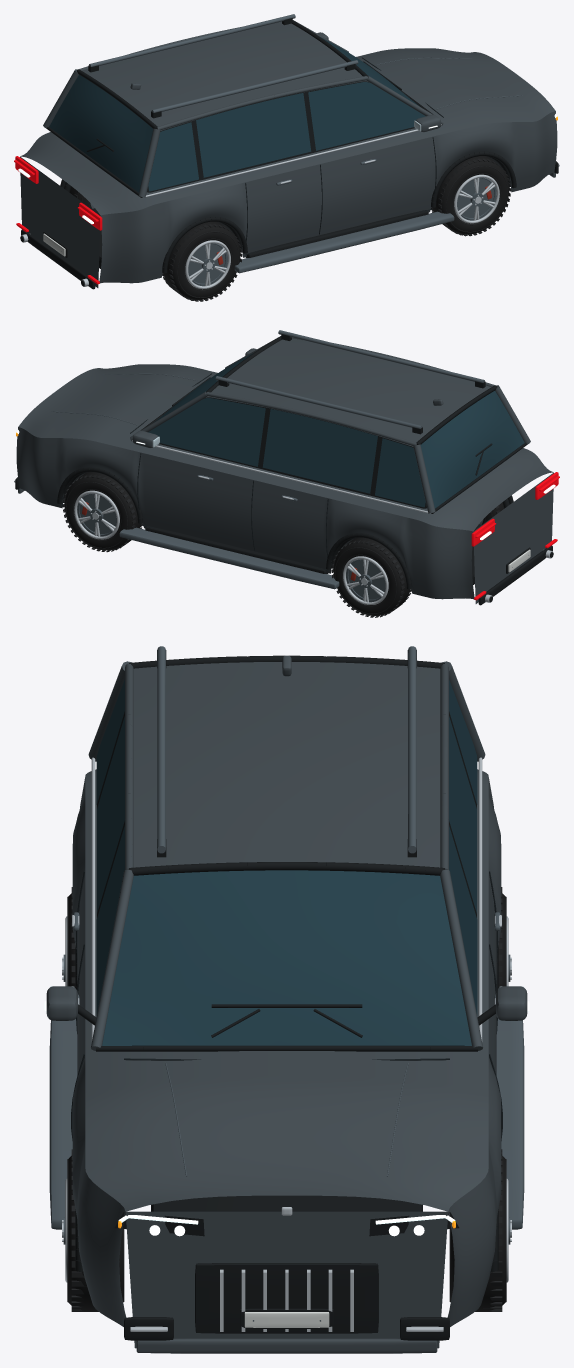
File: suv.glb
3 renders of one model, top to bottom at view 1: azimuth 30°, elevation 25°; view 2: azimuth 150°, elevation 25°; view 3: azimuth 270°, elevation 25°, orthographic. The views are drawn at different scales.
Parts seen in each view (by area): view 1: Paint / body colour, Smoked automotive glass, Graphite alloy, Satin black trim, Tyre rubber, Satin aluminium, Tyre tread edges, Rear light lenses, Panel gaps; view 2: Paint / body colour, Smoked automotive glass, Graphite alloy, Satin black trim, Tyre rubber, Satin aluminium, Tyre tread edges, Rear light lenses, Panel gaps; view 3: Paint / body colour, Smoked automotive glass, Satin black trim, Graphite alloy, Satin aluminium, Tyre rubber, Tyre tread edges, Plain number plates, Panel gaps, LED daylight.
Part boxes in pixels (x1=…): Paint / body colour: x1=20, y1=20, x2=557, y2=287; Smoked automotive glass: x1=49, y1=37, x2=425, y2=192; Graphite alloy: x1=45, y1=14, x2=522, y2=286; Satin black trim: x1=20, y1=18, x2=558, y2=289; Tyre rubber: x1=69, y1=156, x2=509, y2=299; Satin aluminium: x1=21, y1=124, x2=559, y2=289; Tyre tread edges: x1=73, y1=156, x2=511, y2=301; Rear light lenses: x1=14, y1=156, x2=102, y2=284; Panel gaps: x1=245, y1=57, x2=443, y2=255; Paint / body colour: x1=16, y1=336, x2=553, y2=603; Smoked automotive glass: x1=148, y1=353, x2=524, y2=508; Graphite alloy: x1=51, y1=330, x2=528, y2=602; Satin black trim: x1=15, y1=334, x2=553, y2=605; Tyre rubber: x1=64, y1=472, x2=504, y2=615; Satin aluminium: x1=14, y1=440, x2=552, y2=604; Tyre tread edges: x1=62, y1=472, x2=499, y2=617; Rear light lenses: x1=471, y1=472, x2=559, y2=600; Panel gaps: x1=130, y1=373, x2=328, y2=570; Paint / body colour: x1=46, y1=655, x2=527, y2=1353; Smoked automotive glass: x1=96, y1=679, x2=477, y2=1045; Satin black trim: x1=75, y1=650, x2=498, y2=1340; Graphite alloy: x1=49, y1=646, x2=524, y2=1321; Satin aluminium: x1=62, y1=757, x2=511, y2=1331; Tyre rubber: x1=68, y1=893, x2=505, y2=1311; Tyre tread edges: x1=67, y1=887, x2=506, y2=1311; Plain number plates: x1=244, y1=1312, x2=329, y2=1327; Panel gaps: x1=71, y1=871, x2=502, y2=1140; LED daylight: x1=44, y1=1001, x2=529, y2=1236.
Bounding box in the file's own units: 5.2 × 1.93 × 2.32.
